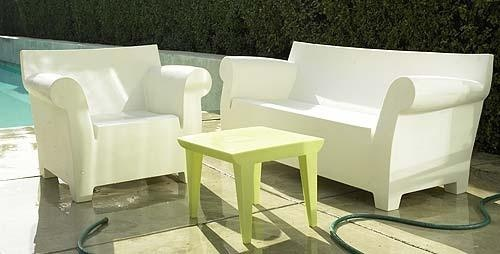chair: (19, 42, 214, 206)
sofa: (218, 38, 496, 215)
